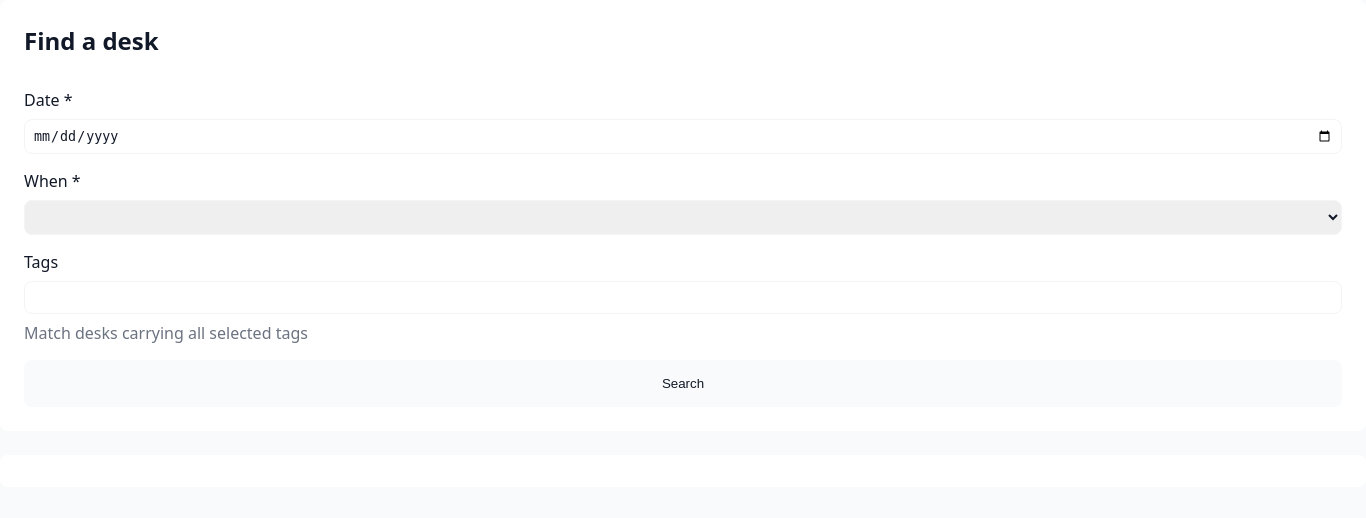
Scenario: DeskFinder › shows the no-access notice when the employee cannot book
Type "2026-07-27" into the date field with id "desk-search-date".
click(683, 137); type("2026-07-27")  # box [24,119,1342,154]
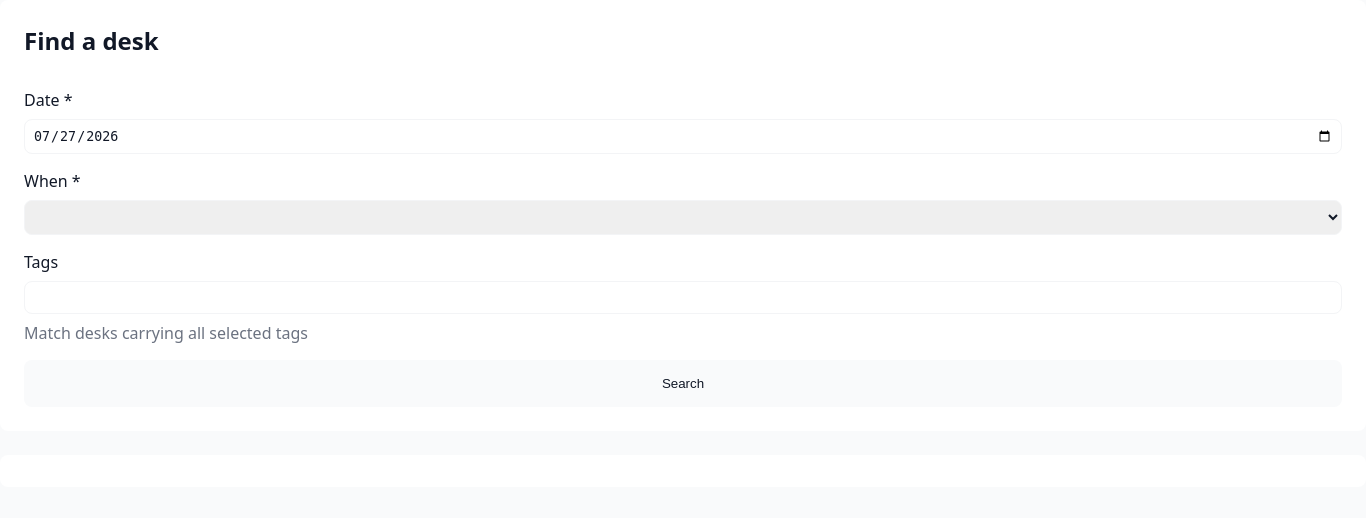
Select "Full day" in the dropdown with id "desk-search-when" at (683,218), box [24,200,1342,235]
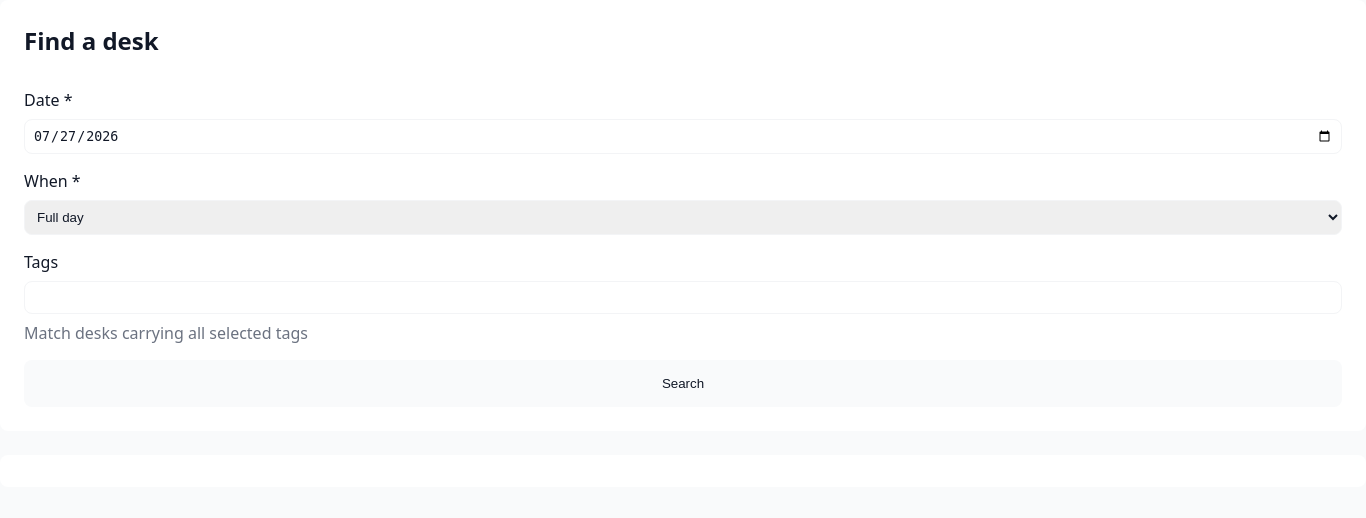
Submit the form
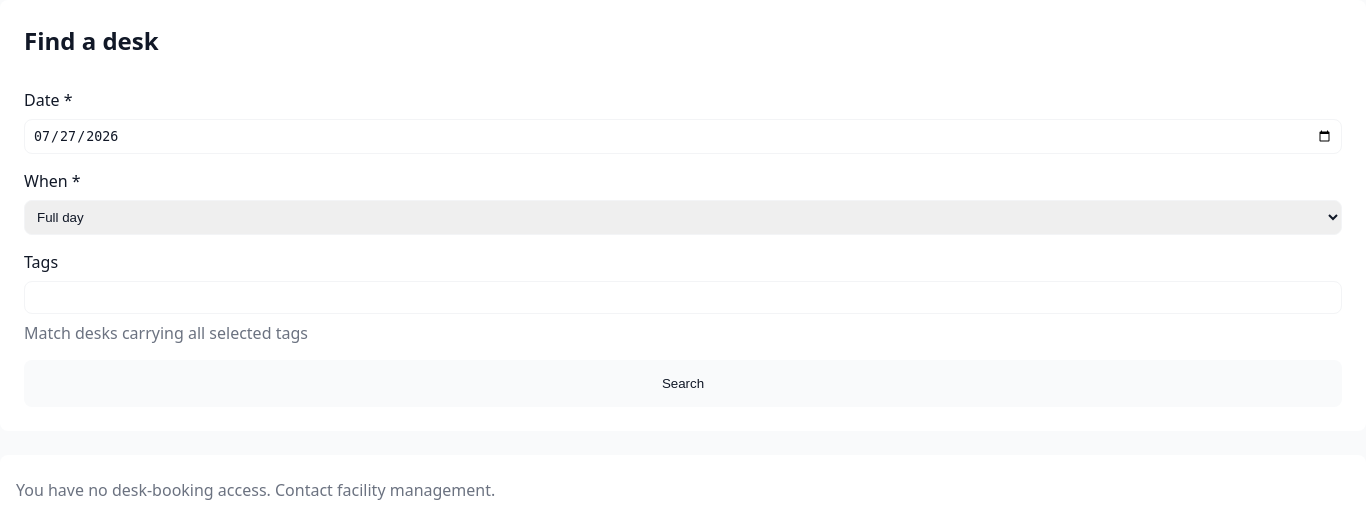
Result: the text "You have no desk-booking access." is shown at [16,479,495,501]
